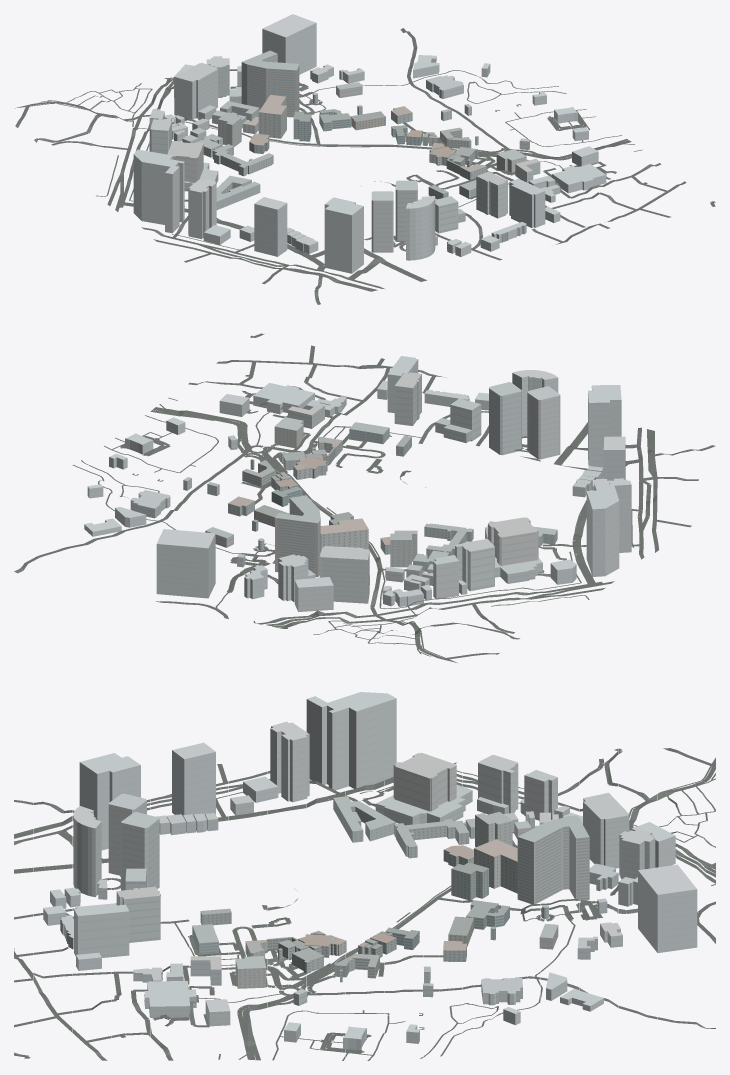
The picture shows the model from 3 angles, top to bottom: view 1: azimuth 30°, elevation 25°; view 2: azimuth 150°, elevation 25°; view 3: azimuth 270°, elevation 25°; orthographic projection. The views are drawn at different scales.
Visible parts, largest first — view 1: osm-roads, osm-building-604565066, osm-building-518561380, osm-building-463188594, osm-building-223158445, osm-building-512604963, osm-building-822255517, osm-building-1216356196, osm-building-517072314, osm-building-551917143, osm-building-1216356198, osm-building-776584308 (+15 smaller); view 2: osm-roads, osm-building-604565066, osm-building-223158445, osm-building-463188594, osm-building-512604963, osm-building-1216356198, osm-building-1216356199, osm-building-518561380, osm-building-604565062, osm-building-1192273648, osm-building-776584308, osm-building-518561398 (+18 smaller); view 3: osm-roads, osm-building-604565066, osm-building-463188594, osm-building-223158445, osm-building-518561380, osm-building-822255517, osm-building-604565062, osm-building-517072314, osm-building-551917143, osm-building-512604963, osm-building-1216356199, osm-building-1216356196 (+22 smaller).
Boxes of the visible parts, x1=… form: osm-roads: x1=15, y1=28, x2=715, y2=304; osm-building-604565066: x1=133, y1=149, x2=184, y2=233; osm-building-518561380: x1=324, y1=197, x2=363, y2=273; osm-building-463188594: x1=241, y1=50, x2=299, y2=117; osm-building-223158445: x1=262, y1=14, x2=316, y2=74; osm-building-512604963: x1=174, y1=63, x2=217, y2=119; osm-building-822255517: x1=254, y1=197, x2=287, y2=256; osm-building-1216356196: x1=406, y1=196, x2=435, y2=260; osm-building-517072314: x1=188, y1=178, x2=216, y2=239; osm-building-551917143: x1=509, y1=178, x2=545, y2=227; osm-building-1216356198: x1=371, y1=191, x2=393, y2=252; osm-building-776584308: x1=476, y1=171, x2=507, y2=218; osm-roads: x1=14, y1=333, x2=715, y2=662; osm-building-604565066: x1=586, y1=480, x2=631, y2=576; osm-building-223158445: x1=156, y1=529, x2=215, y2=598; osm-building-463188594: x1=275, y1=495, x2=320, y2=577; osm-building-512604963: x1=319, y1=546, x2=369, y2=603; osm-building-1216356198: x1=527, y1=386, x2=560, y2=459; osm-building-1216356199: x1=489, y1=382, x2=521, y2=455; osm-building-518561380: x1=588, y1=385, x2=621, y2=467; osm-building-604565062: x1=488, y1=517, x2=538, y2=565; osm-building-1192273648: x1=455, y1=539, x2=494, y2=591; osm-building-776584308: x1=394, y1=372, x2=421, y2=425; osm-building-518561398: x1=294, y1=577, x2=333, y2=611; osm-roads: x1=14, y1=748, x2=715, y2=1060; osm-building-604565066: x1=306, y1=692, x2=396, y2=790; osm-building-463188594: x1=517, y1=815, x2=589, y2=904; osm-building-223158445: x1=638, y1=864, x2=697, y2=952; osm-building-518561380: x1=79, y1=753, x2=140, y2=850; osm-building-822255517: x1=172, y1=742, x2=215, y2=815; osm-building-604565062: x1=393, y1=753, x2=456, y2=811; osm-building-517072314: x1=270, y1=721, x2=309, y2=802; osm-building-551917143: x1=74, y1=903, x2=129, y2=957; osm-building-512604963: x1=583, y1=792, x2=629, y2=868; osm-building-1216356199: x1=121, y1=812, x2=159, y2=890; osm-building-1216356196: x1=73, y1=806, x2=101, y2=897.
Bounding box in the file's own units: 720 × 92.92 × 720.
Materials: 8 (1 with a texture image).
